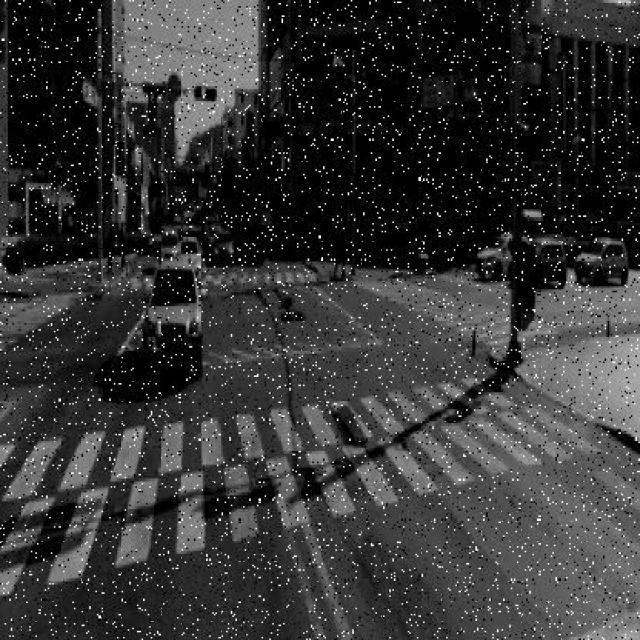crosswalk: (0, 409, 624, 605), (1, 372, 567, 500), (90, 270, 341, 302)
